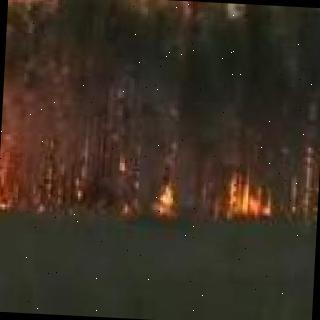fire: (220, 171, 274, 224), (0, 72, 7, 206), (151, 182, 175, 218)
